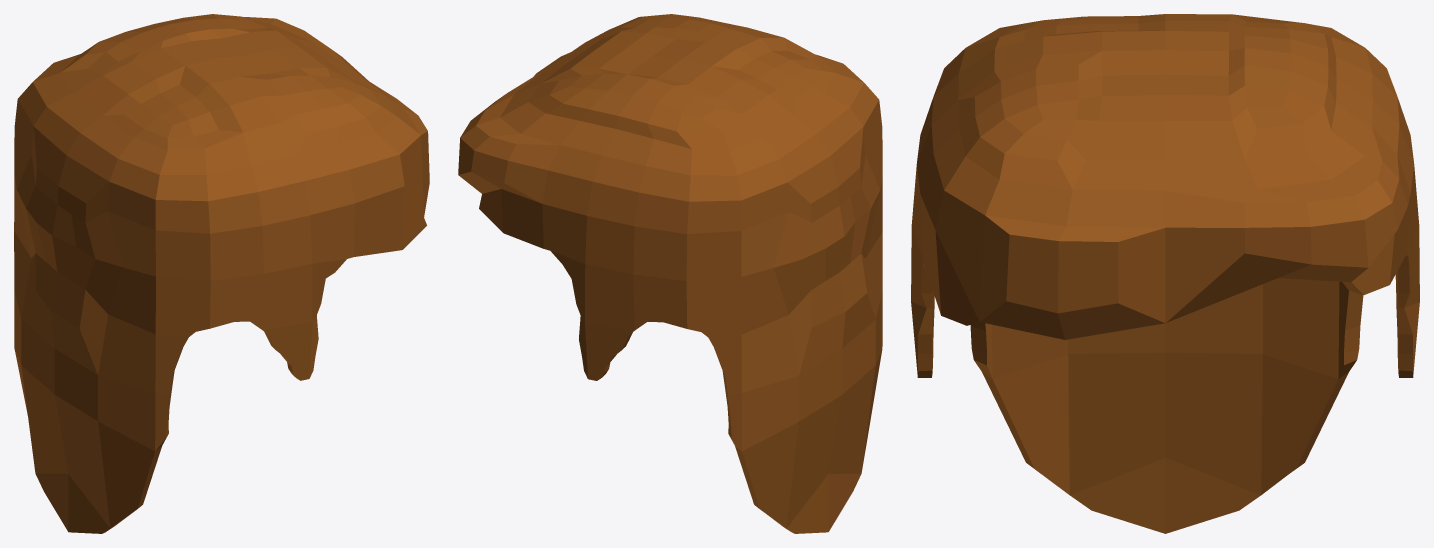
File: cabelo3.fbx
3 views of the same model, side by side, from view 1: azimuth 30°, elevation 25°; view 2: azimuth 150°, elevation 25°; view 3: azimuth 270°, elevation 25° (orthographic). The views are drawn at different scales.
Visible parts, largest first — view 1: Cube.002; view 2: Cube.002; view 3: Cube.002.
Boxes of the visible parts, <box> form: Cube.002: <box>14,14,429,533</box>; Cube.002: <box>458,14,882,533</box>; Cube.002: <box>911,14,1419,533</box>.
Bounding box in the file's own units: 245 × 315 × 252.
